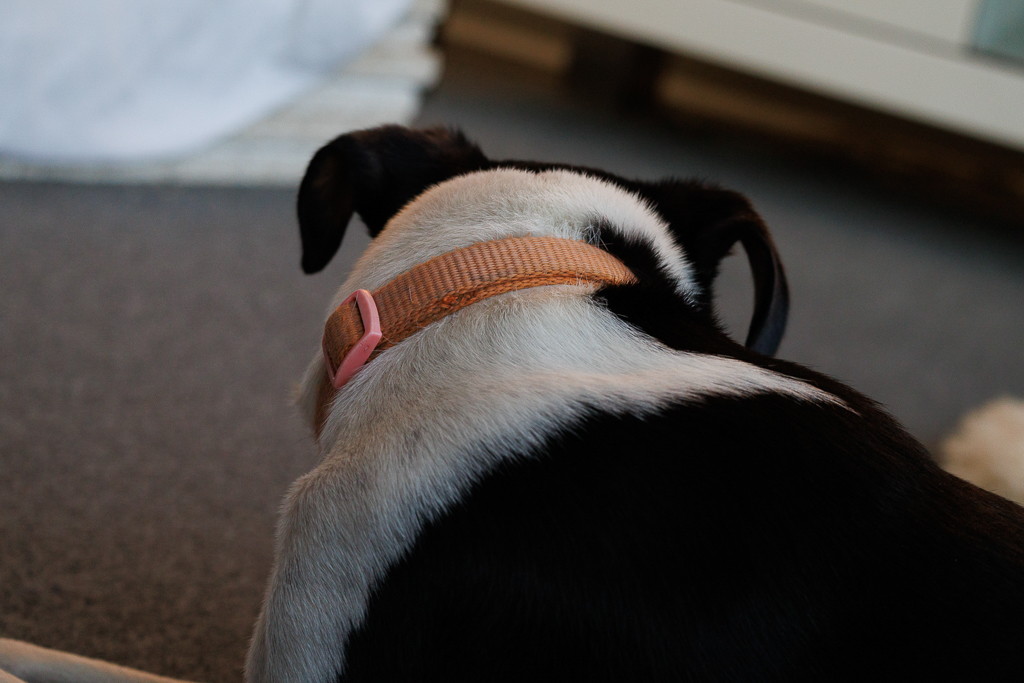Dog: (0, 105, 1024, 682)
